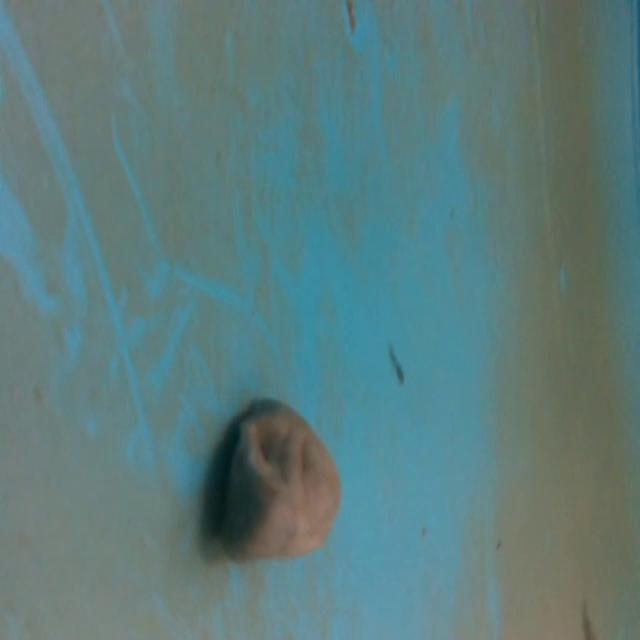rock: (197, 394, 348, 572)
